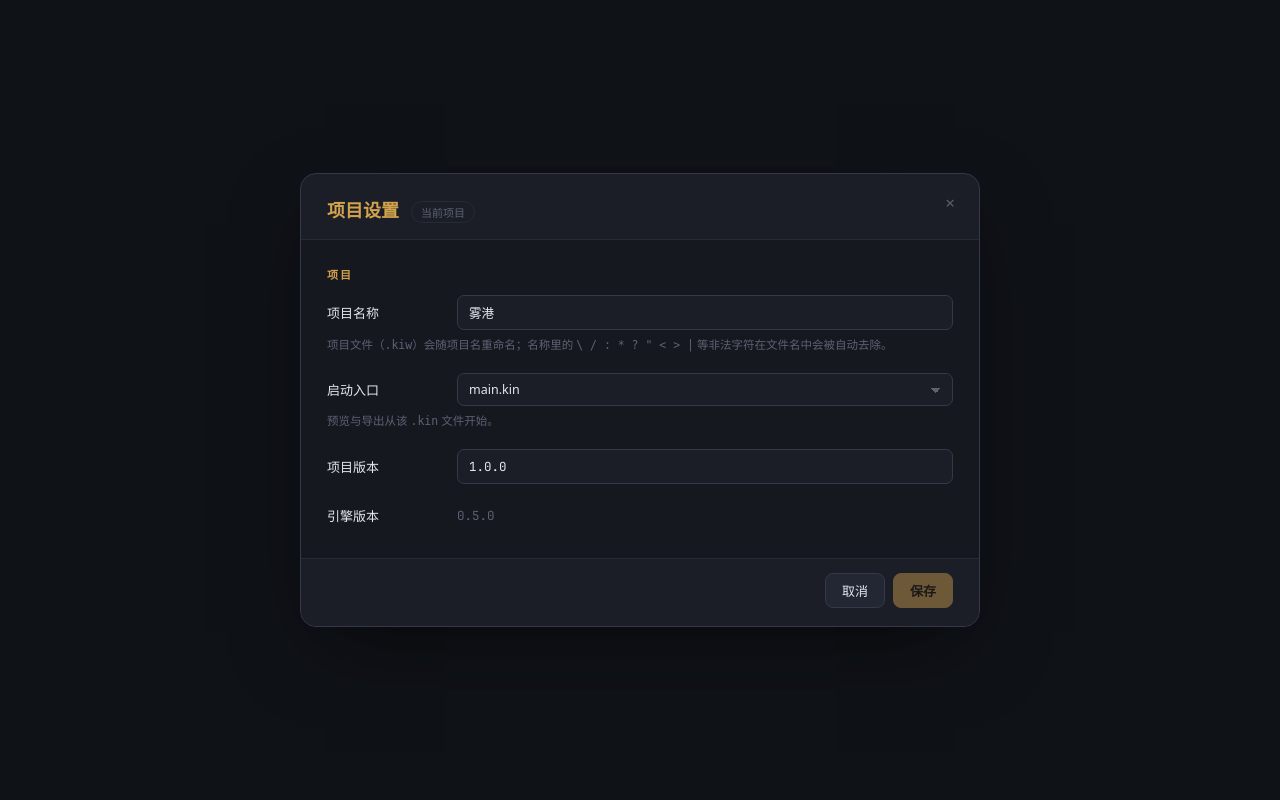
Test case: ProjectSettingsDialog › draft == manifest 时保存不可点；改任一字段后可点
Check: the button "保存" is disabled, box [893,573,953,608]
Type "改" into the field named "项目名称" at (705, 312), box [457,295,953,330]
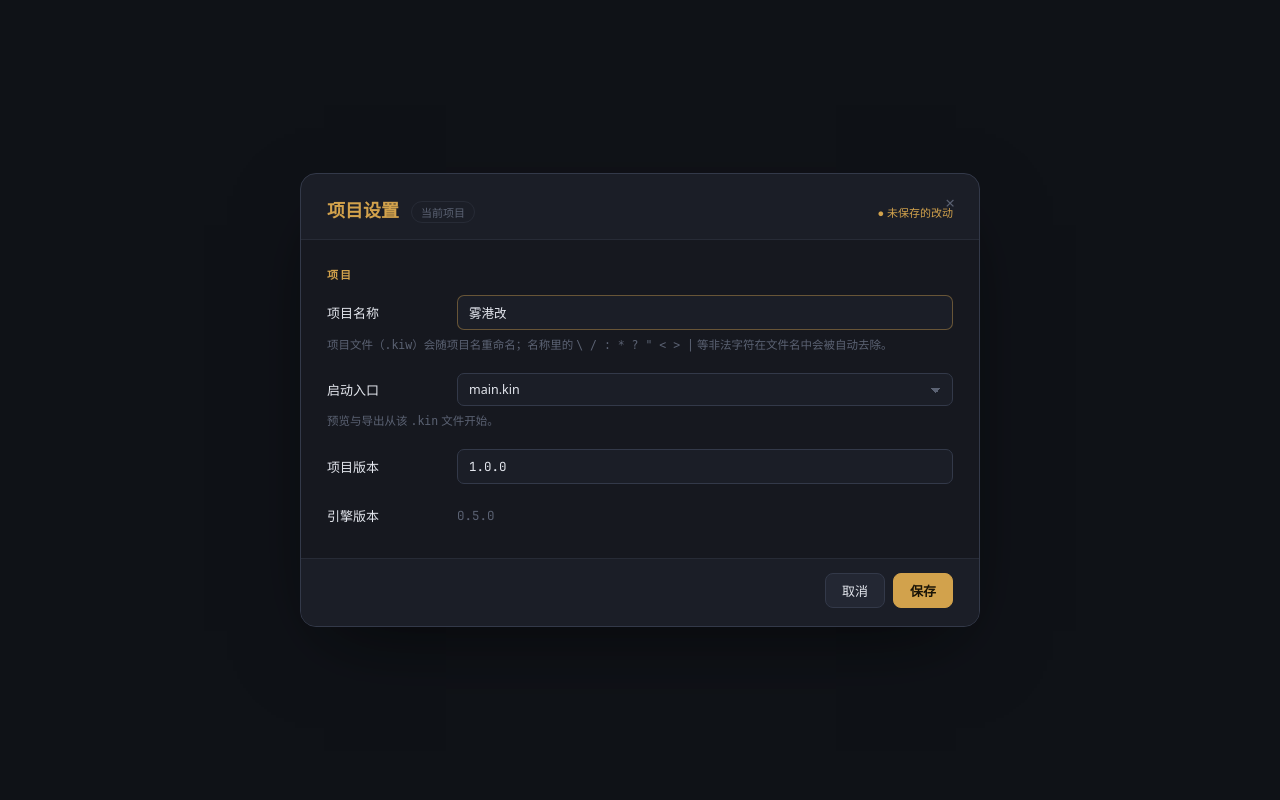
Check: the button "保存" is enabled, box [893,573,953,608]
